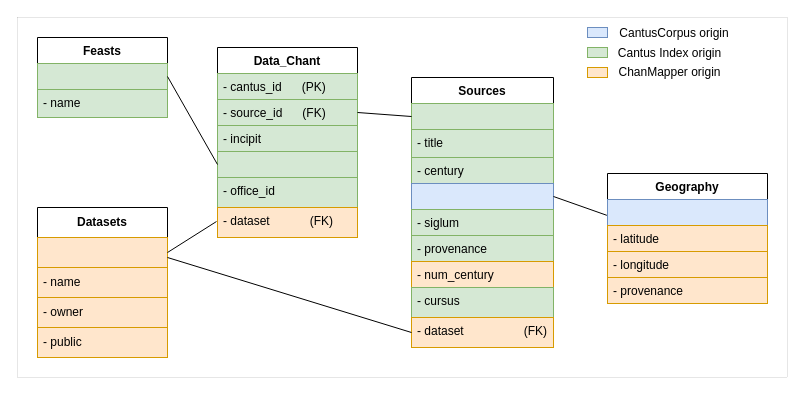
The diagram is 804 pixels wide and 394 high, and some of its shapes have lost their labels. Each missing label, with the centre of its shape:
"- dataset_id (PK)" goes at [102,252].
"- drupal_path (PK)" goes at [482,116].
"- feast_code (FK)" goes at [287,164].
"- feast_code (PK)" goes at [102,76].
"- provenance_id (FK)" goes at [482,196].
"- provenance_id (PK)" goes at [687,212].
